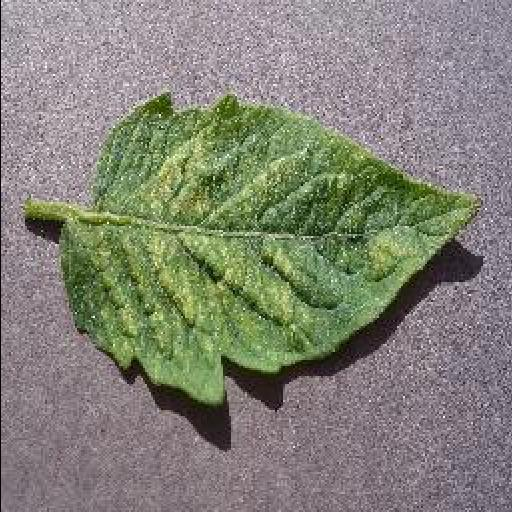disease_tomato: (66, 96, 484, 410)
